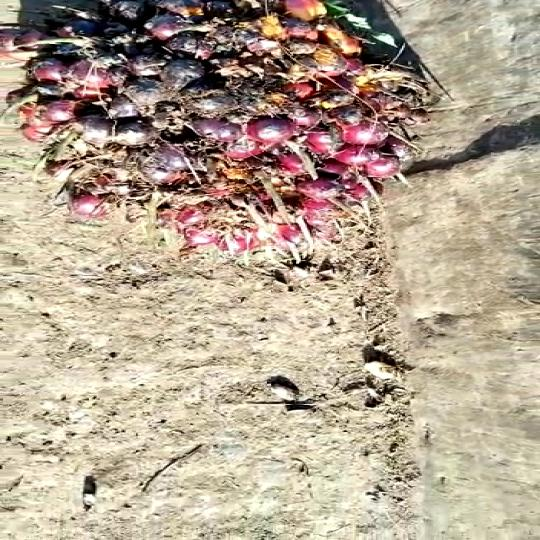masak: (6, 0, 450, 255)
